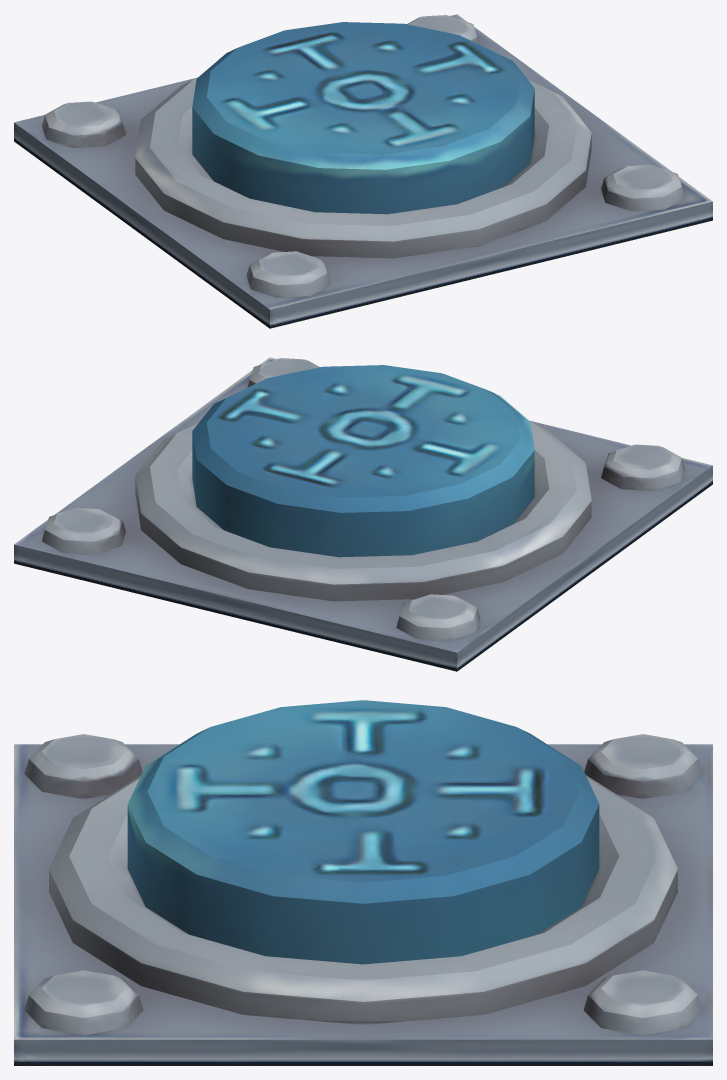
Rendered from Floor Sswitch Blue_HD.fbx.
3 renders of one model, top to bottom at view 1: azimuth 30°, elevation 25°; view 2: azimuth 150°, elevation 25°; view 3: azimuth 270°, elevation 25°, orthographic. The views are drawn at different scales.
Visible parts, largest first — view 1: box, switch1; view 2: box, switch1; view 3: box, switch1.
Part boxes in pixels (x1,y1,x2,y2): box: [14, 14, 712, 328]; switch1: [192, 22, 534, 214]; box: [14, 357, 712, 671]; switch1: [192, 365, 534, 557]; box: [14, 734, 712, 1065]; switch1: [127, 700, 599, 964].
Bounding box in the file's own units: 1 × 0.2 × 1.
Materials: 1 (1 with a texture image).
